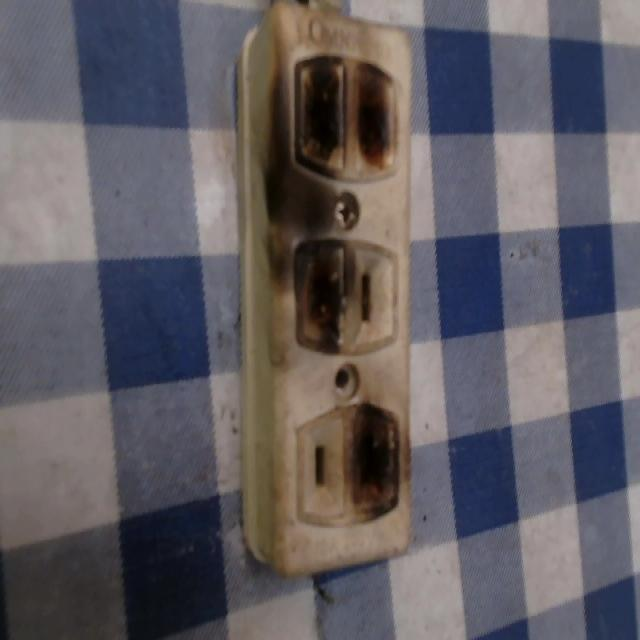-: (274, 45, 406, 196), (281, 232, 358, 361), (339, 404, 411, 529)
